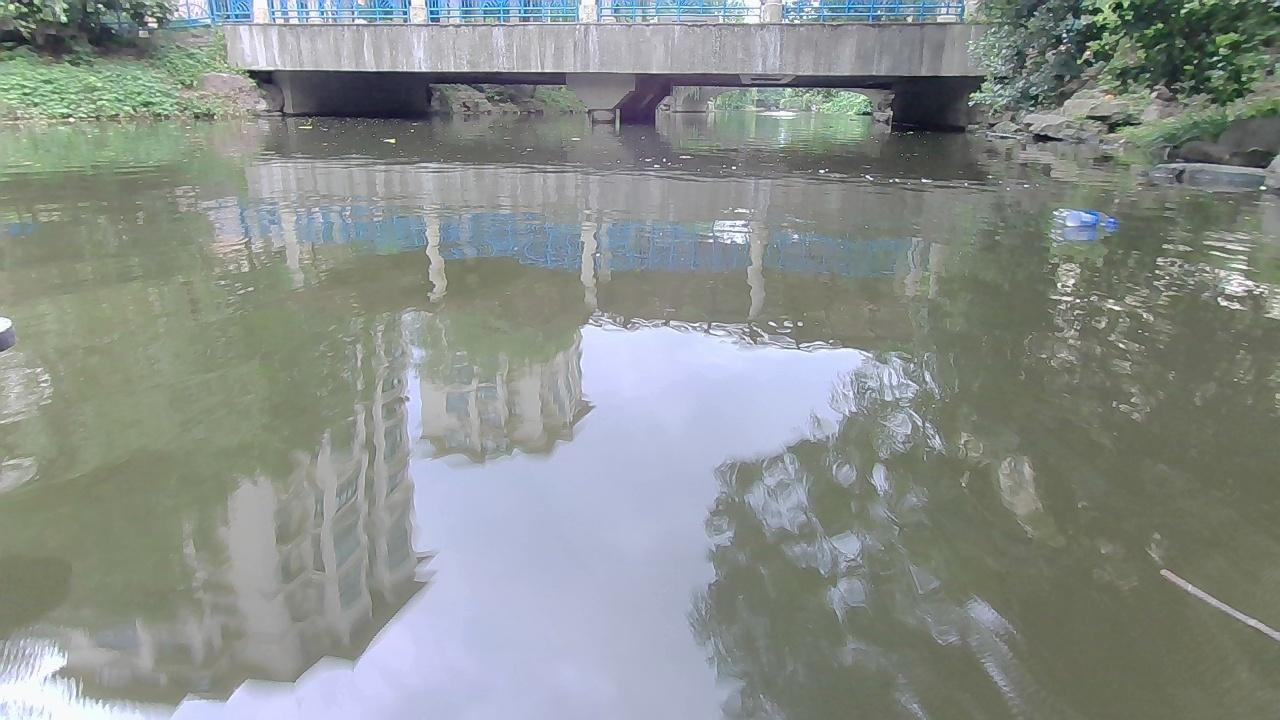bottle: (1052, 204, 1116, 227)
